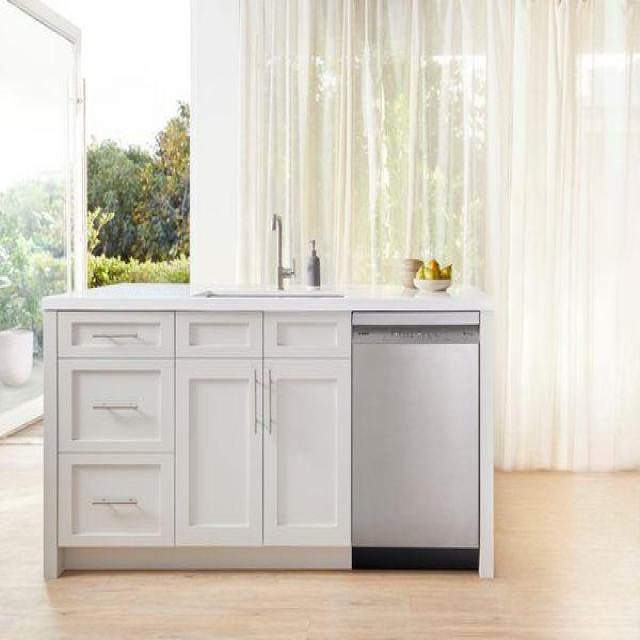dishwasher: (346, 304, 486, 583)
